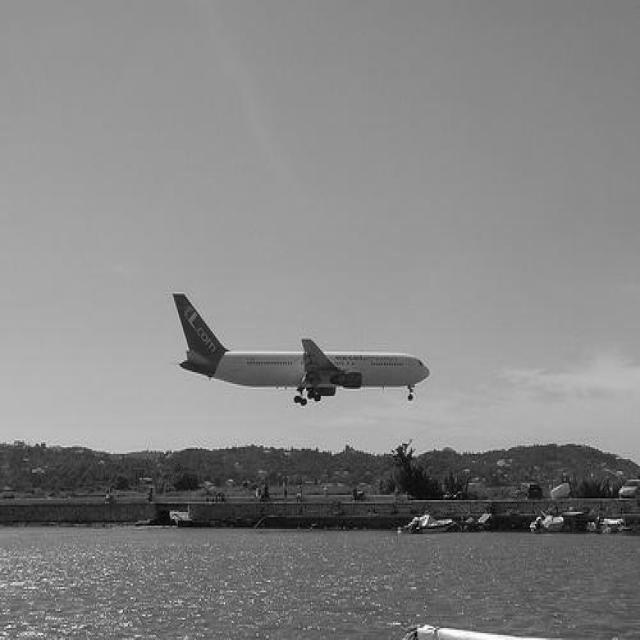aeroplane: (168, 290, 432, 408)
